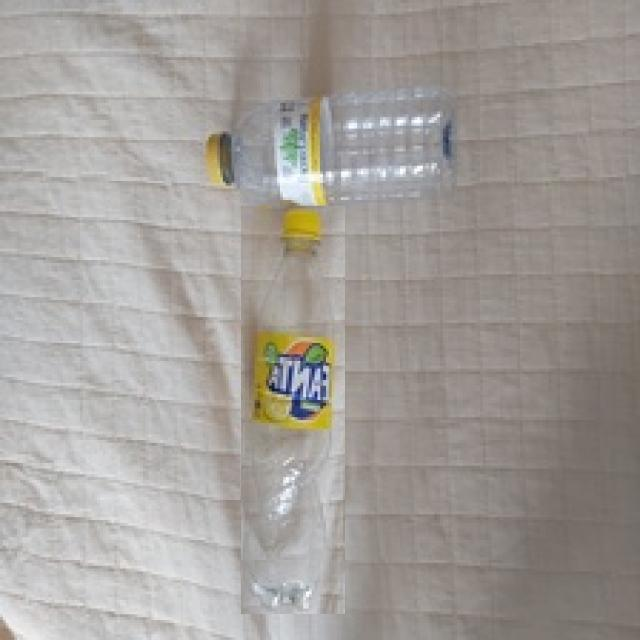bottle: (241, 206, 345, 614), (196, 88, 465, 206)
cap: (200, 130, 233, 188), (280, 207, 325, 248)
label: (244, 331, 332, 429), (271, 96, 330, 208)
